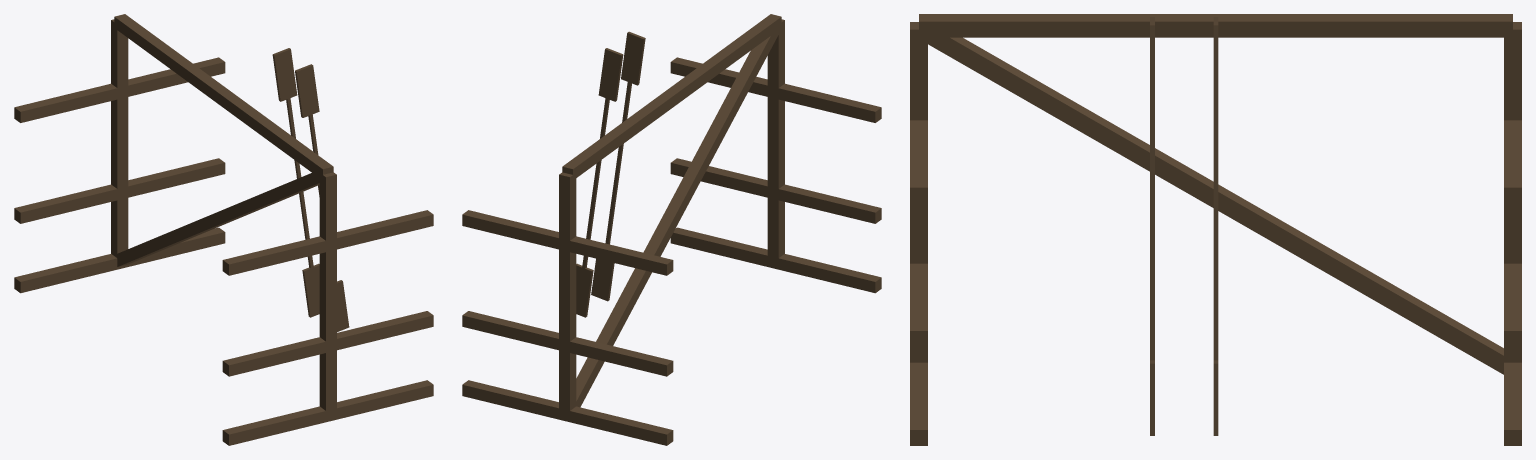
The model's file is kayak_rack.glb.
3 renders of one model, left to right at view 1: azimuth 30°, elevation 25°; view 2: azimuth 150°, elevation 25°; view 3: azimuth 270°, elevation 25°, orthographic. The views are drawn at different scales.
Visible parts, largest first — view 1: kayak_rack; view 2: kayak_rack; view 3: kayak_rack.
Boxes of the visible parts, left/top/right/bottom form: kayak_rack: left=14, top=14, right=433, bottom=445; kayak_rack: left=462, top=14, right=881, bottom=445; kayak_rack: left=910, top=14, right=1521, bottom=445.
Size of the model in its own units: 1.7 by 2.2 by 3.09.
